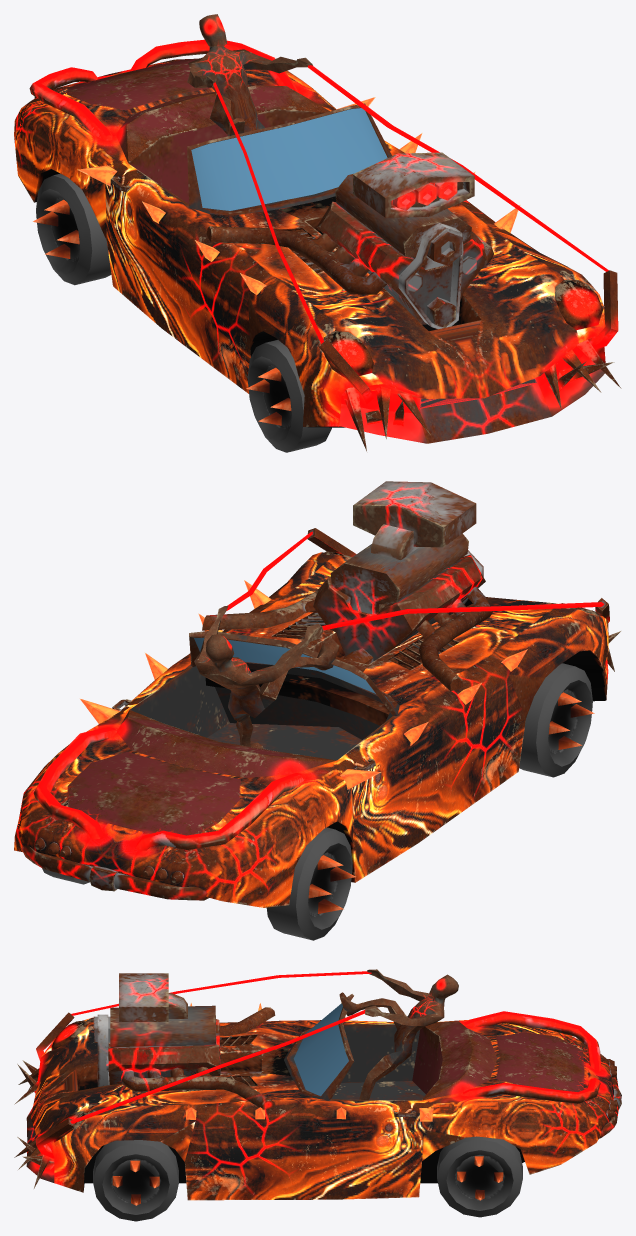
Rendered from MalibuMutate.fbx.
The picture shows the model from 3 angles, top to bottom: view 1: azimuth 30°, elevation 25°; view 2: azimuth 150°, elevation 25°; view 3: azimuth 270°, elevation 25°; orthographic projection. The views are drawn at different scales.
Parts seen in each view (by area): view 1: MalibuMutate, MalibuMWheel-BR, MalibuMWheel-FR; view 2: MalibuMutate, MalibuMWheel-FR, MalibuMWheel-BR; view 3: MalibuMutate, MalibuMWheel-FL, MalibuMWheel-BL.
Part boxes in pixels (x1,y1,x2,y2): MalibuMutate: [14, 14, 621, 451]; MalibuMWheel-BR: [33, 173, 111, 285]; MalibuMWheel-FR: [246, 340, 331, 452]; MalibuMutate: [14, 481, 620, 907]; MalibuMWheel-FR: [519, 663, 594, 777]; MalibuMWheel-BR: [266, 827, 355, 940]; MalibuMutate: [14, 969, 621, 1200]; MalibuMWheel-FL: [93, 1140, 178, 1221]; MalibuMWheel-BL: [437, 1136, 522, 1217].
Bounding box in the file's own units: 208 × 155 × 444.
